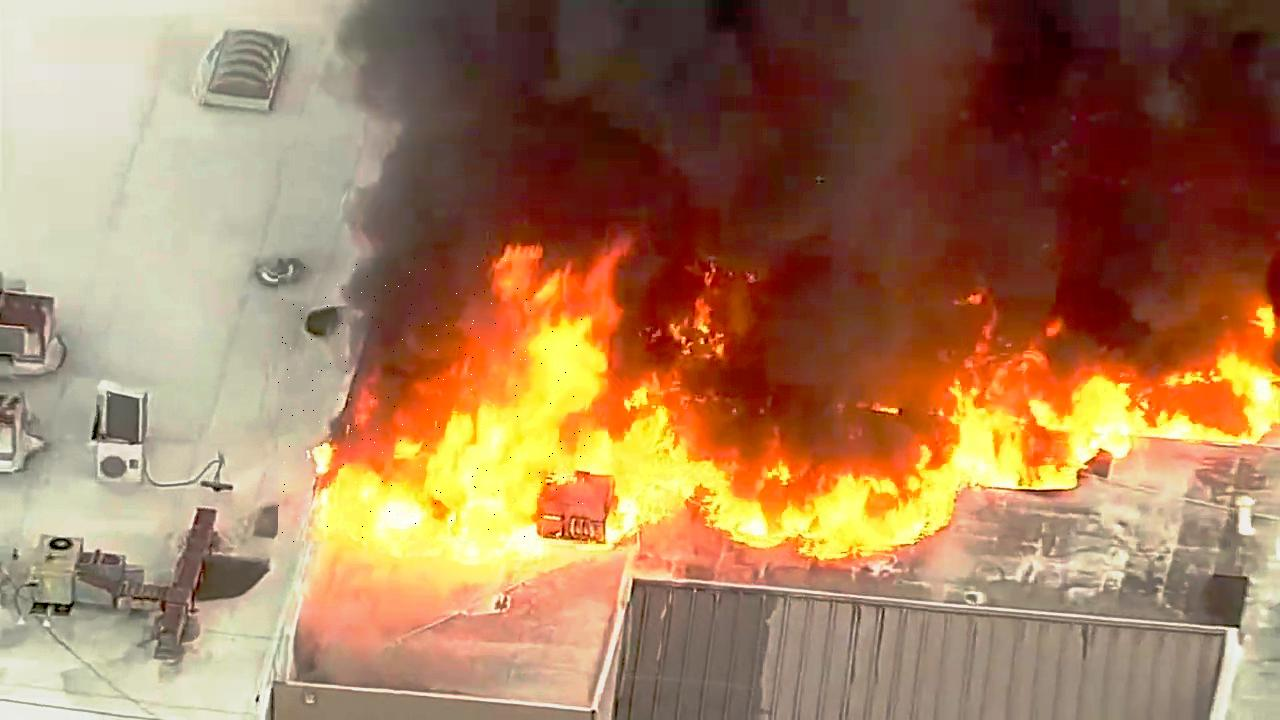smoke: (278, 259, 590, 544)
